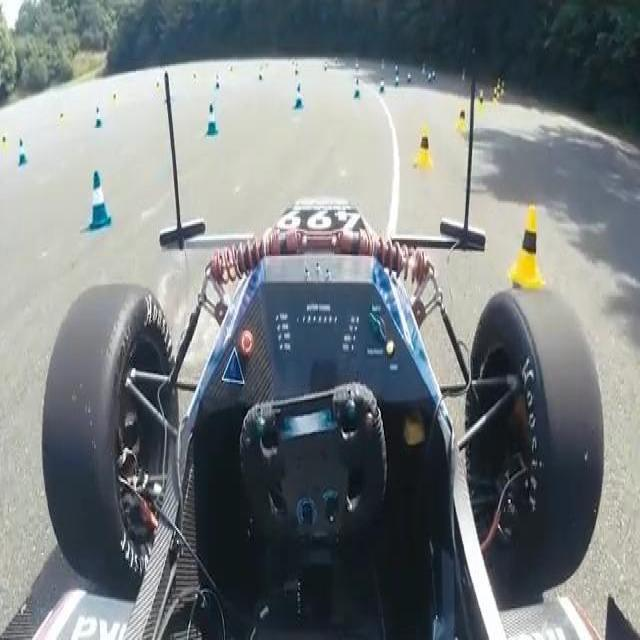blue_cone: (88, 169, 114, 225), (203, 98, 225, 144), (291, 84, 306, 110), (353, 78, 364, 105), (380, 74, 390, 96)
yellow_cone: (508, 207, 552, 286), (415, 132, 445, 176), (456, 98, 473, 138)
